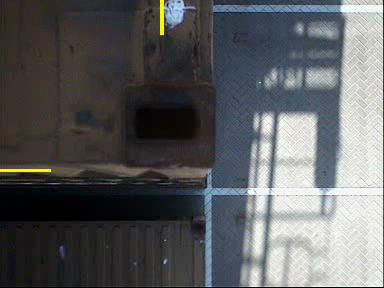groundmarker_2: (188, 179, 232, 209), (190, 27, 235, 56)
